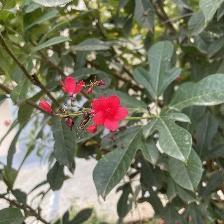jatropha: (91, 95, 130, 135)
